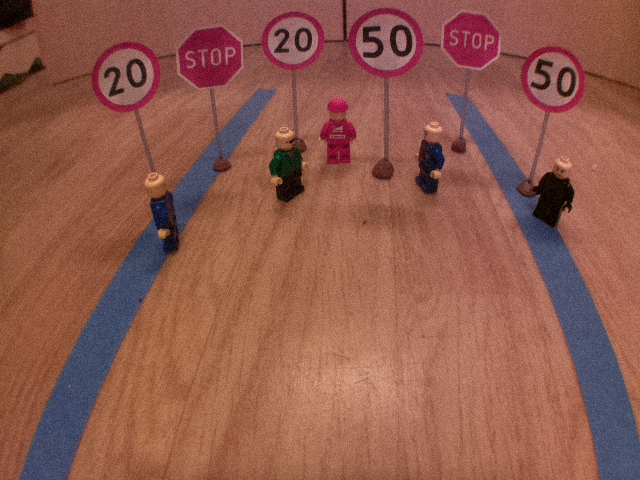LEGO_person: (530, 154, 578, 232), (265, 124, 309, 205), (144, 170, 185, 255), (315, 94, 362, 168), (413, 118, 448, 202)
ogr_20: (89, 40, 162, 114), (259, 7, 327, 71)
ogr_50: (346, 5, 427, 79), (518, 43, 588, 115)
stop: (174, 24, 247, 93), (438, 8, 506, 71)
